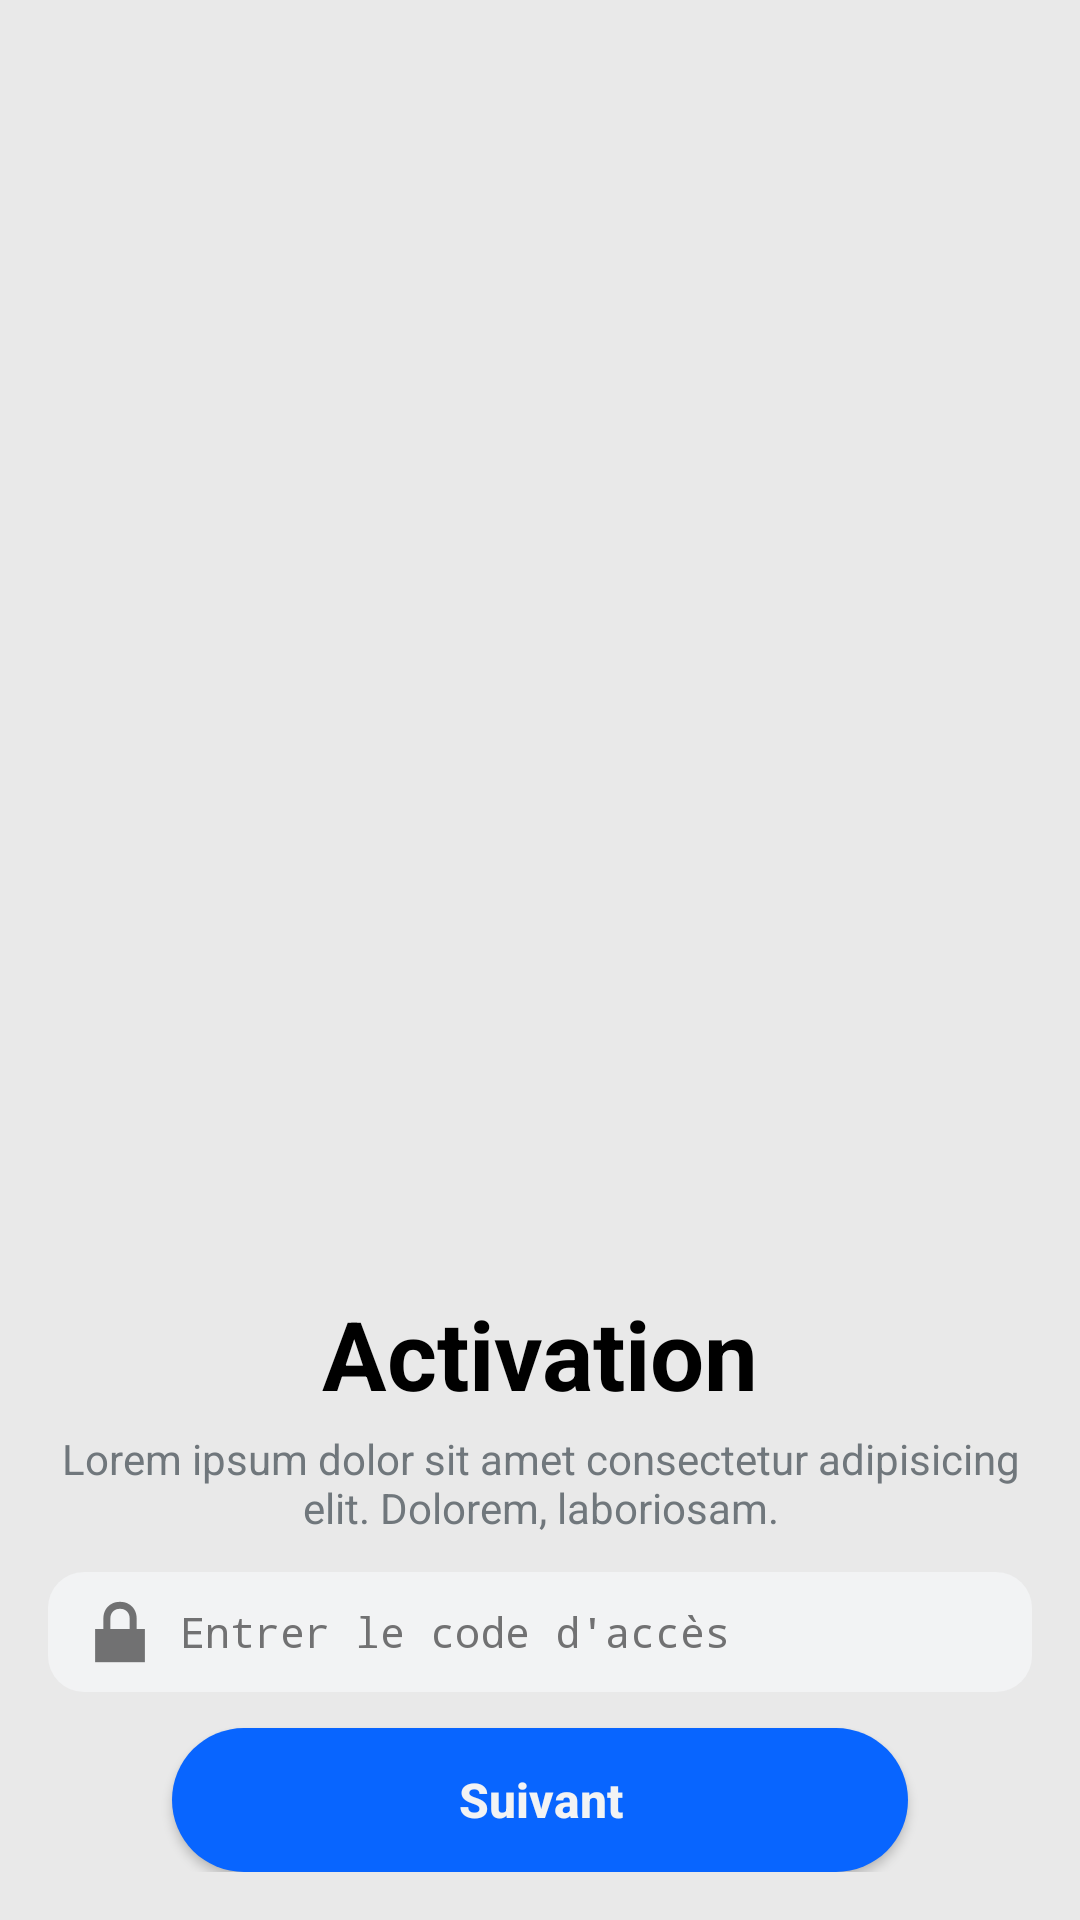

Named icons in this screenshot (1080px×1920px) and their centers, (x=x, y=y):
lock: (x=120, y=1632)
